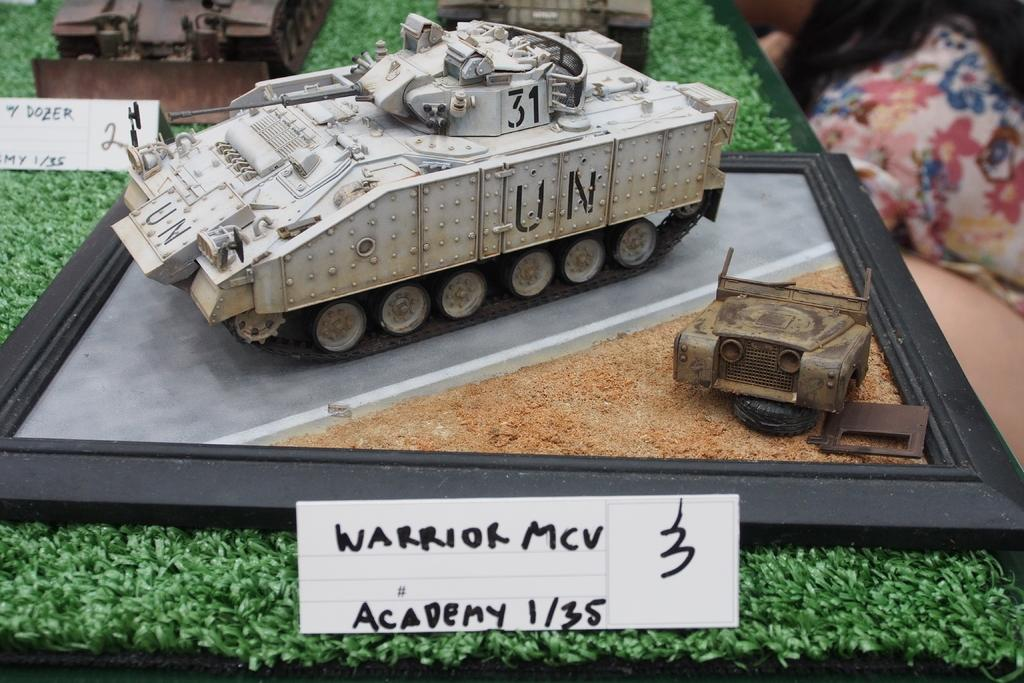Tank: (110, 10, 739, 364)
